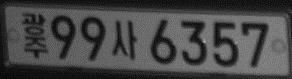3: (180, 19, 207, 67)
5: (212, 21, 239, 68)
6: (149, 18, 177, 65)
7: (241, 22, 269, 68)
9: (79, 15, 106, 60), (50, 15, 76, 60)
광주_V: (21, 12, 48, 59)
사: (112, 20, 138, 59)
